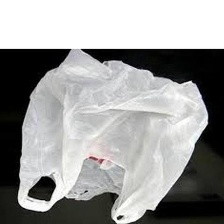plastic_bag: (15, 46, 209, 224)
